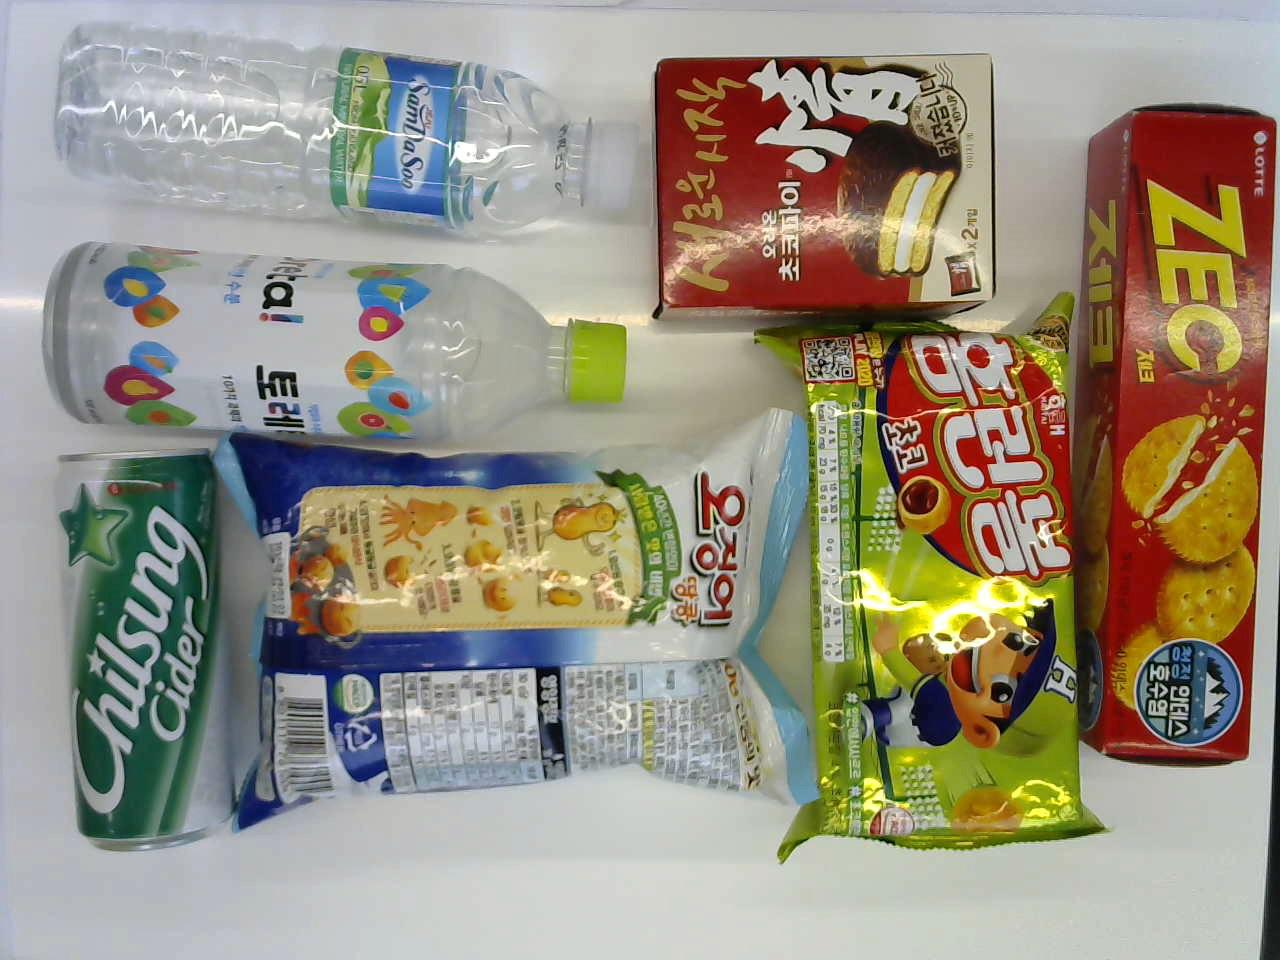chocopie: (651, 54, 1005, 322)
cidar: (59, 448, 227, 872)
homerunball: (780, 312, 1091, 863)
samdasu: (34, 20, 647, 241)
squid_peanut: (223, 433, 813, 845)
toreta: (35, 234, 648, 455)
zec: (1086, 93, 1272, 778)
